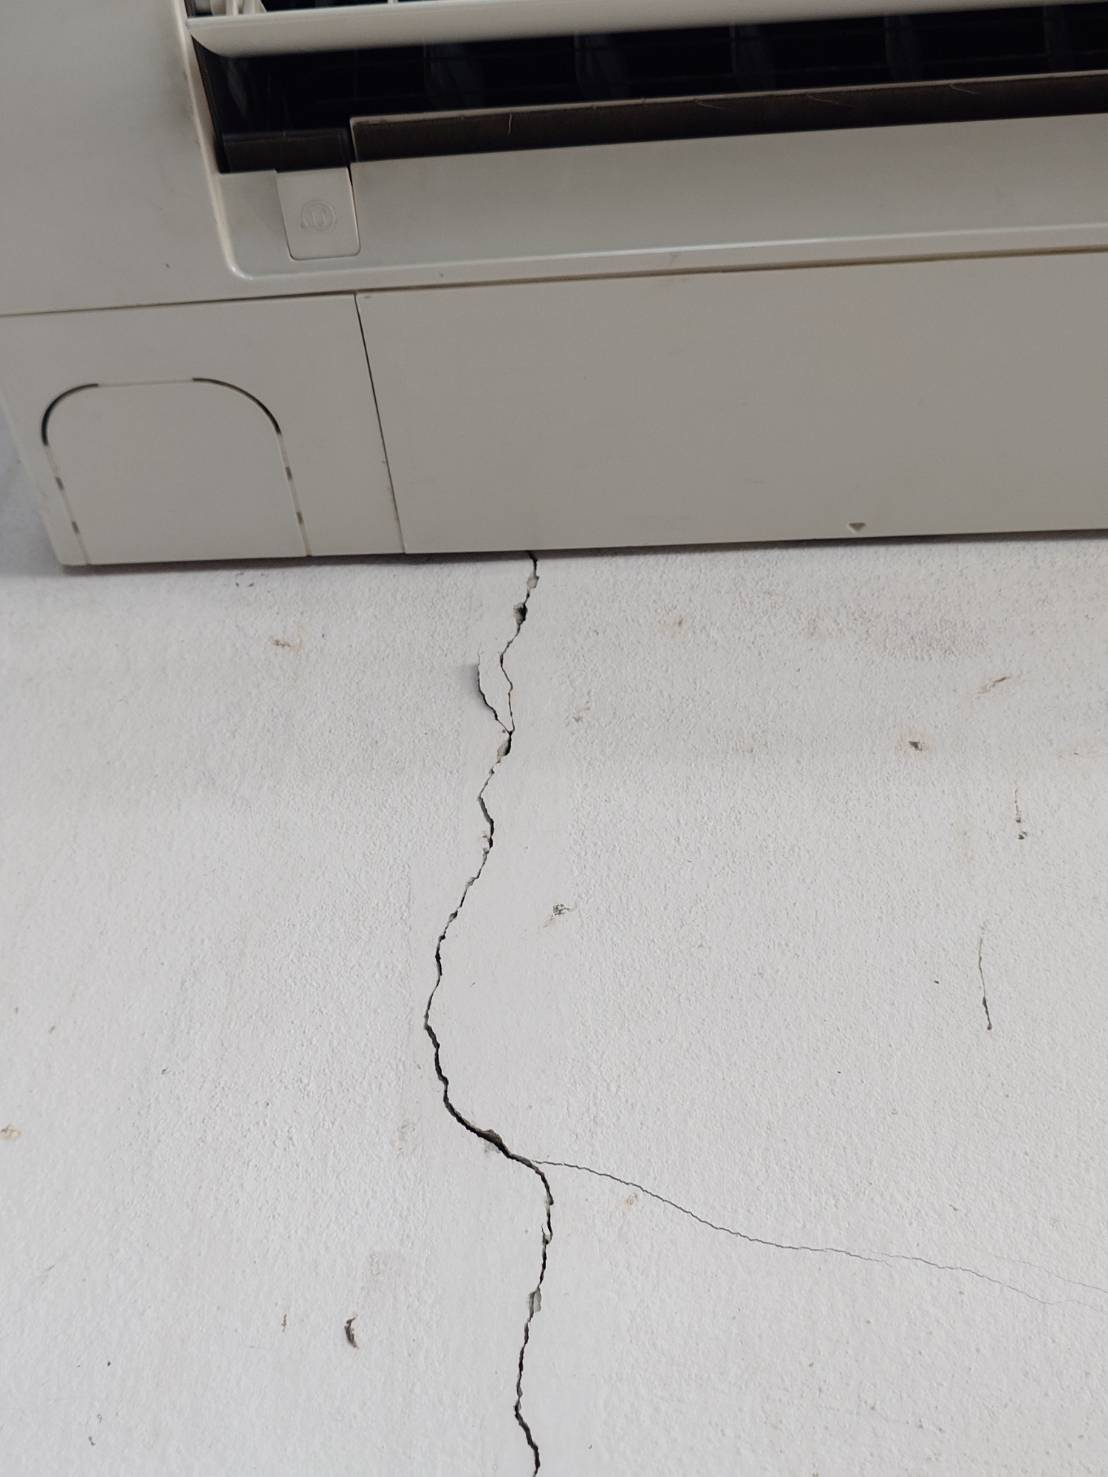Low: (395, 547, 1044, 1477)
